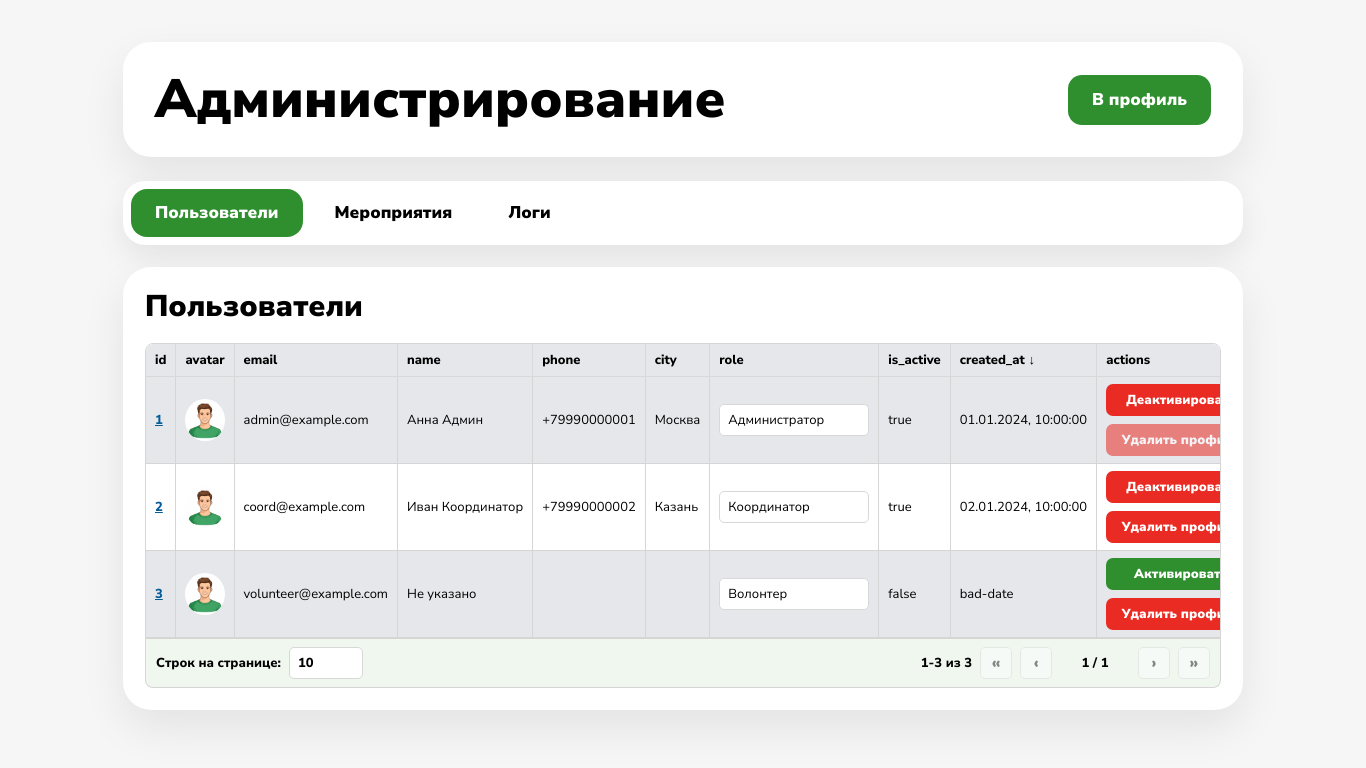
Test: AdminPage › shows fallback active status error
This screenshot has width=1366, height=768.
Expected: the text "coord@example.com" is shown, x1=234 y1=464 x2=398 y2=551
Click the button "Деактивировать" in the row of "coord@example.com": (1181, 487) x1=1106 y1=471 x2=1256 y2=503
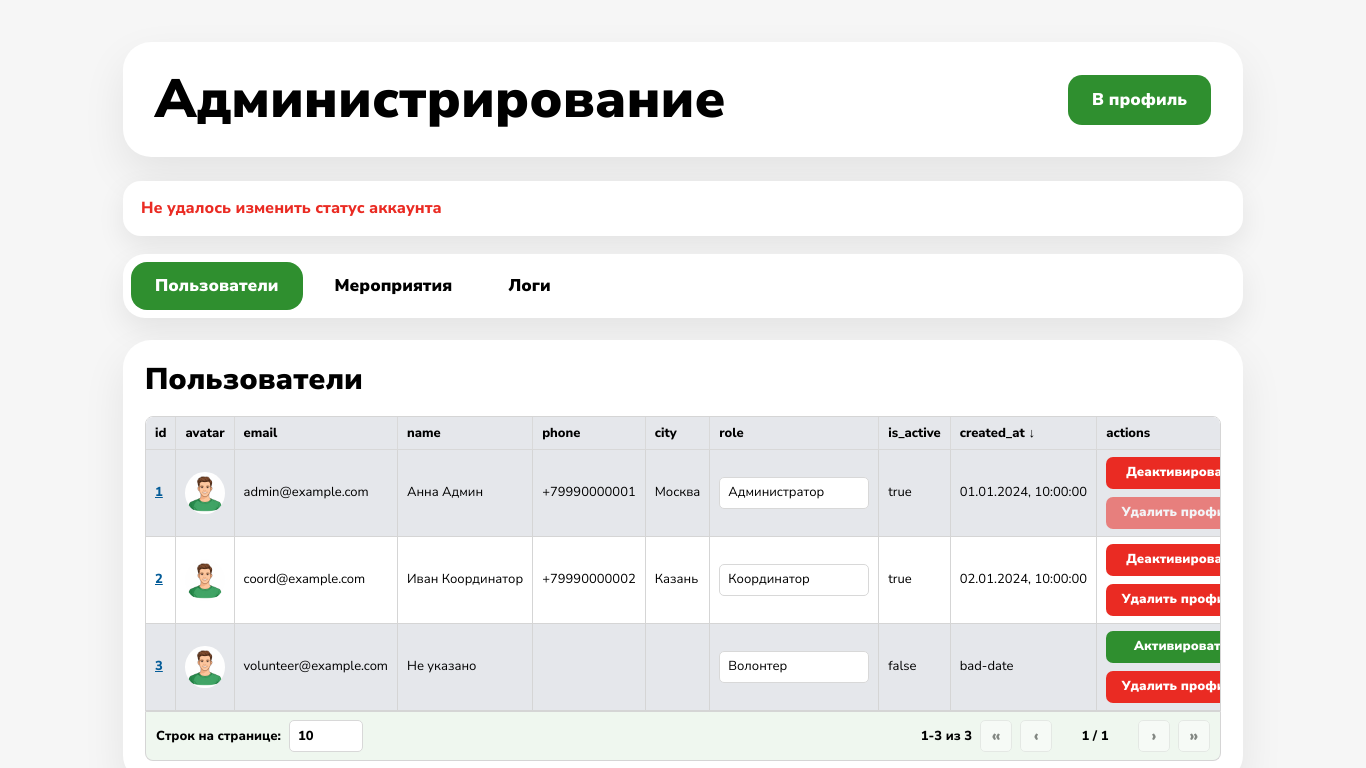
Expected: the text "Не удалось изменить статус аккаунта" is shown, x1=123 y1=181 x2=1243 y2=236
